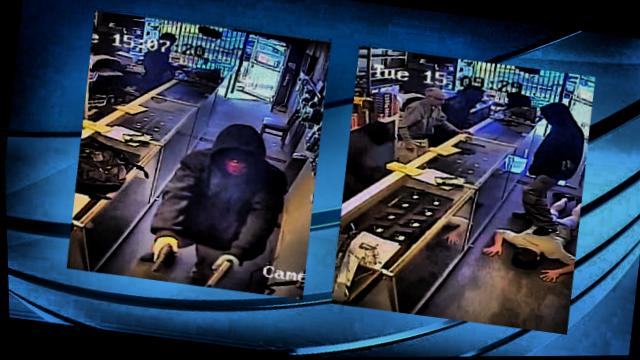pistol: (192, 242, 244, 311), (128, 234, 174, 290)
